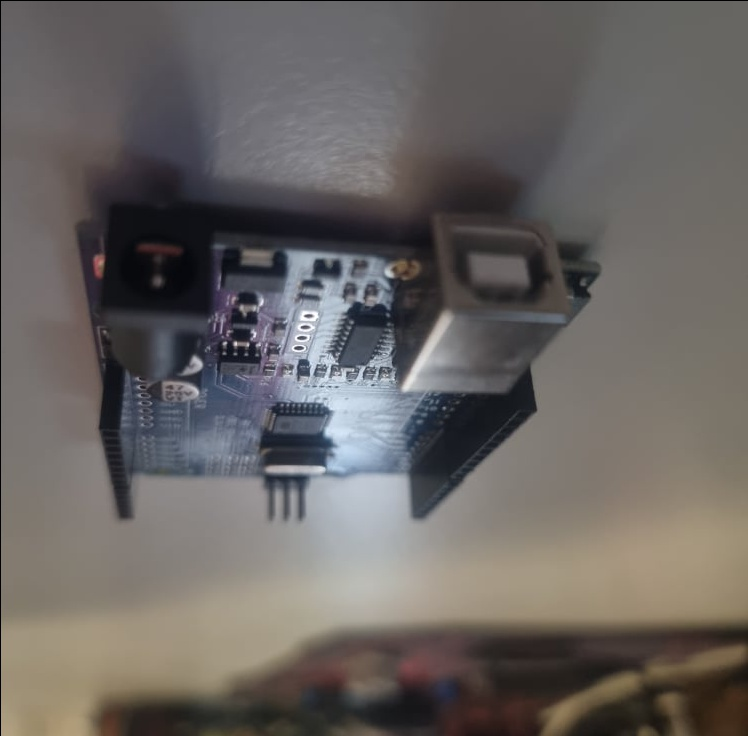UNO R3: (70, 194, 605, 520)
